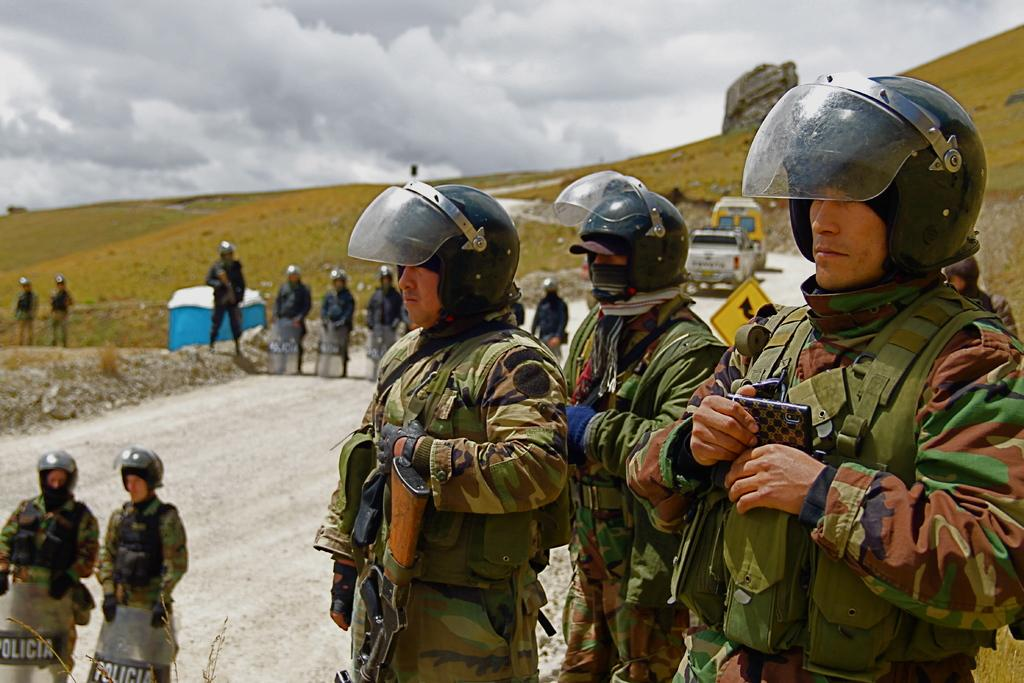helmet: (741, 72, 988, 282), (347, 179, 521, 323), (552, 170, 689, 295), (112, 444, 165, 499), (36, 449, 78, 499)
